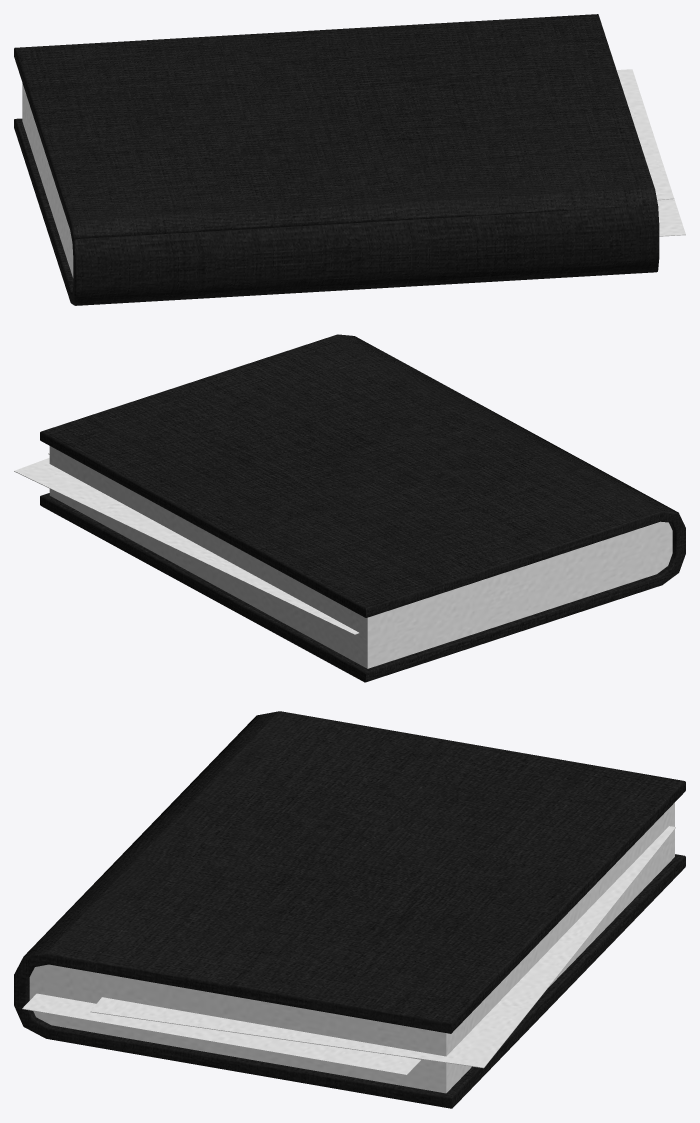
File: SM_book2.fbx
3 views of the same model, one above another, from view 1: azimuth 30°, elevation 25°; view 2: azimuth 150°, elevation 25°; view 3: azimuth 270°, elevation 25° (orthographic). The views are drawn at different scales.
Parts seen in each view (by area): view 1: book, paper, paper1; view 2: book, paper1; view 3: book, paper1, paper.
Part boxes in pixels (x1=…): book: x1=14, y1=14, x2=659, y2=305; paper: x1=616, y1=69, x2=685, y2=236; paper1: x1=623, y1=92, x2=674, y2=200; book: x1=40, y1=334, x2=685, y2=682; paper1: x1=14, y1=458, x2=358, y2=634; book: x1=14, y1=711, x2=685, y2=1108; paper1: x1=90, y1=826, x2=675, y2=1068; paper: x1=22, y1=993, x2=420, y2=1075.
Size of the model in its own units: 28.06 by 3.48 by 24.54.
